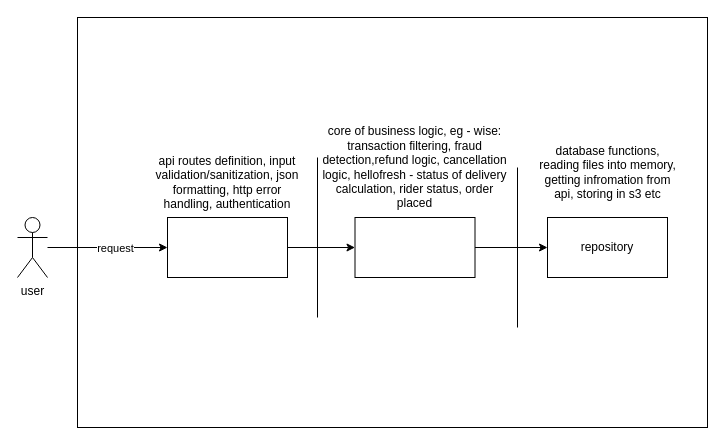
The diagram is 725 pixels wide and 445 high, and some of its shapes have lost their labels. The shapes that lost their labels are listed below. From the top down, each one's box as (x1, y1, x2, y2) in pixels, then its label:
(166, 216, 288, 278): handler
(354, 216, 475, 278): domain
